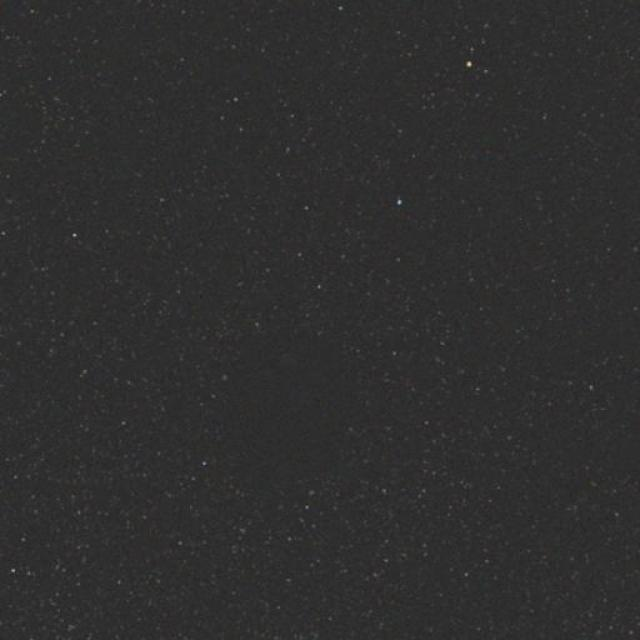proba_3_ocs: (203, 313, 375, 513)
